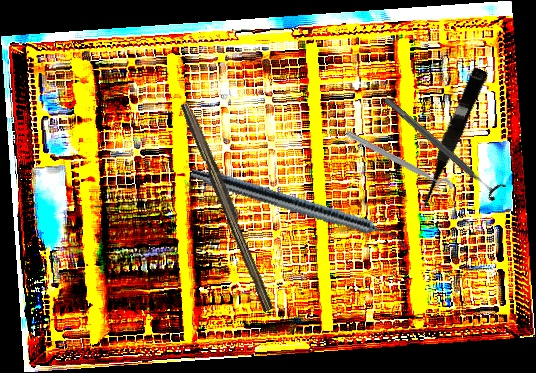Fixation Ring: (378, 89, 507, 204), (340, 127, 456, 201)
Handpiece: (187, 164, 412, 251)
Micro Scissor: (411, 65, 489, 213)
Scalpel Handle: (177, 100, 280, 313)
